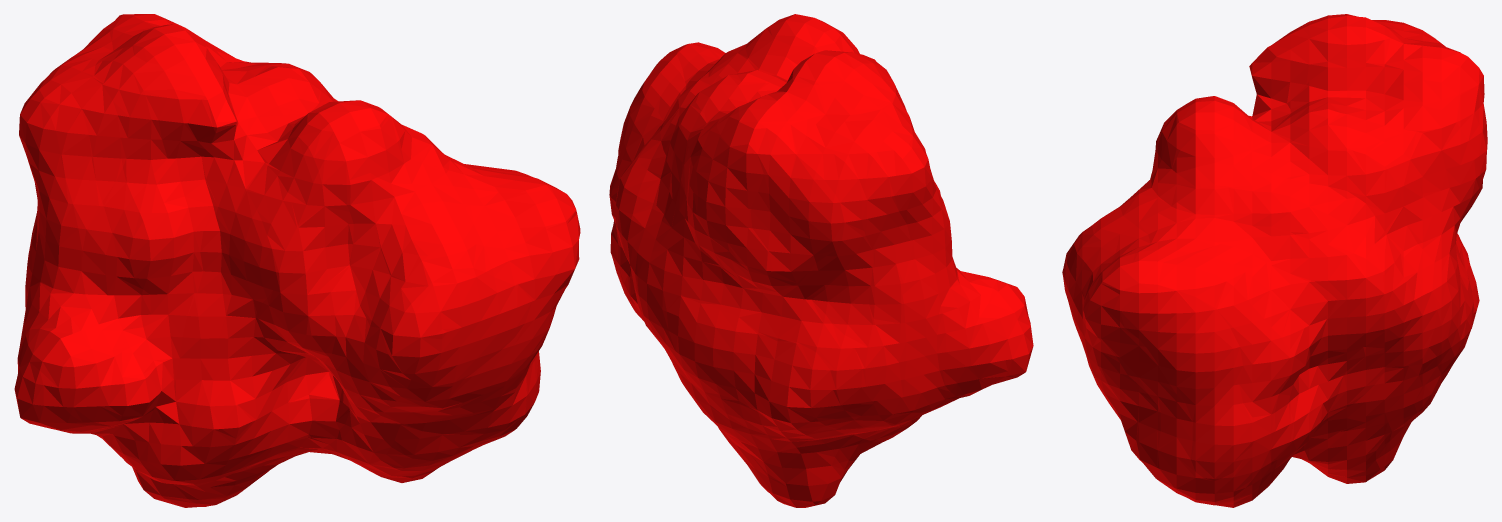
The model's file is pstB_coarse.dae.
3 views of the same model, side by side, from view 1: azimuth 30°, elevation 25°; view 2: azimuth 150°, elevation 25°; view 3: azimuth 270°, elevation 25° (orthographic). The views are drawn at different scales.
Visible parts, largest first — view 1: pstB; view 2: pstB; view 3: pstB.
Part boxes in pixels (x1,y1,x2,y2): pstB: (14, 14, 580, 507); pstB: (609, 14, 1033, 507); pstB: (1062, 14, 1487, 507).
Size of the model in its own units: 57.85 by 55.41 by 47.79.
